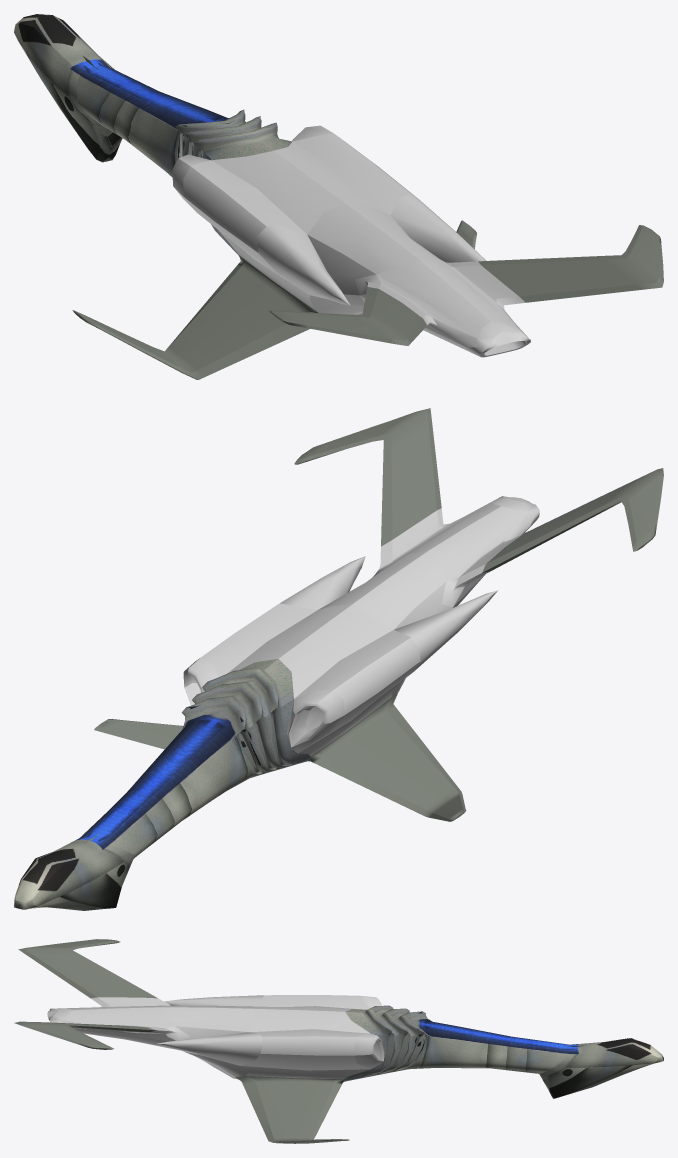
File: bigspaceship fbx.fbx
3 renders of one model, top to bottom at view 1: azimuth 30°, elevation 25°; view 2: azimuth 150°, elevation 25°; view 3: azimuth 270°, elevation 25°, orthographic. The views are drawn at different scales.
Visible parts, largest first — view 1: Cube; view 2: Cube; view 3: Cube.
Boxes of the visible parts, x1,y1,x2,y2 form: Cube: (14,14,663,379); Cube: (14,408,663,910); Cube: (14,939,663,1143).
Size of the model in its own units: 3.31 by 1.6 by 8.02.
